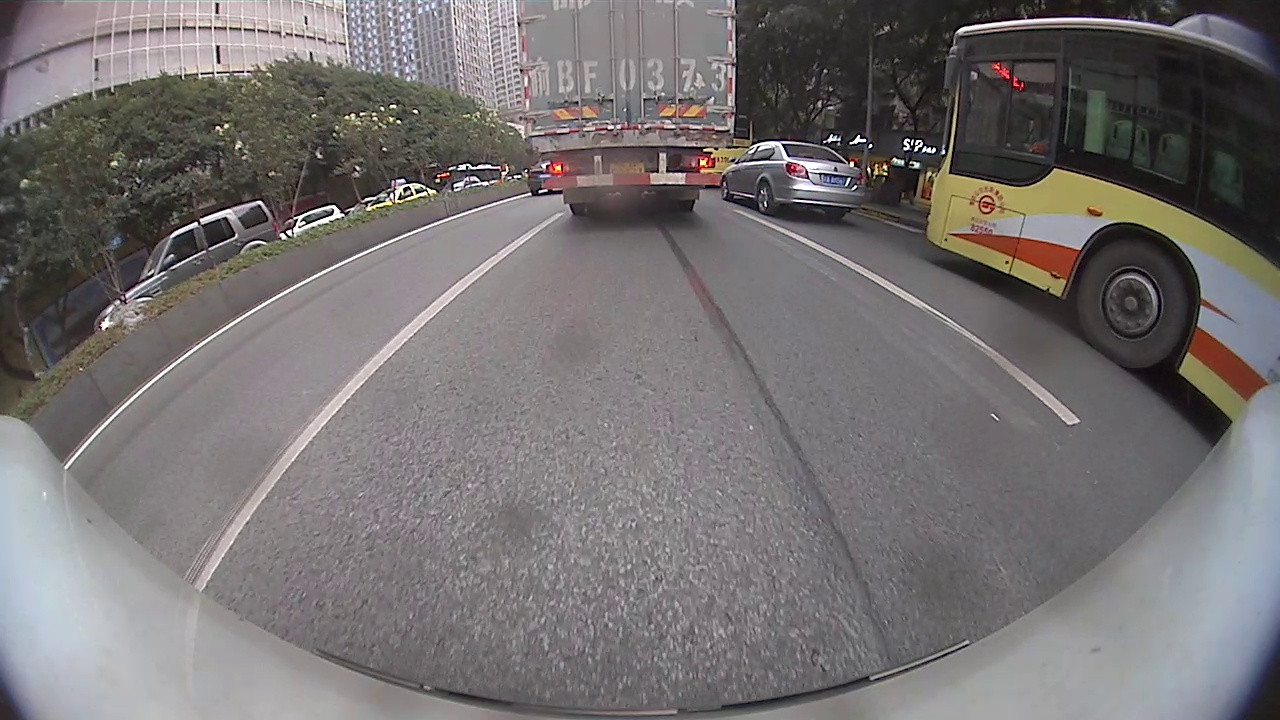bus: (918, 13, 1277, 419)
car: (720, 142, 868, 222), (528, 159, 564, 192)
front: (1073, 238, 1191, 372), (719, 175, 732, 203)
rear: (755, 178, 778, 215)
truck: (515, 3, 736, 214)
